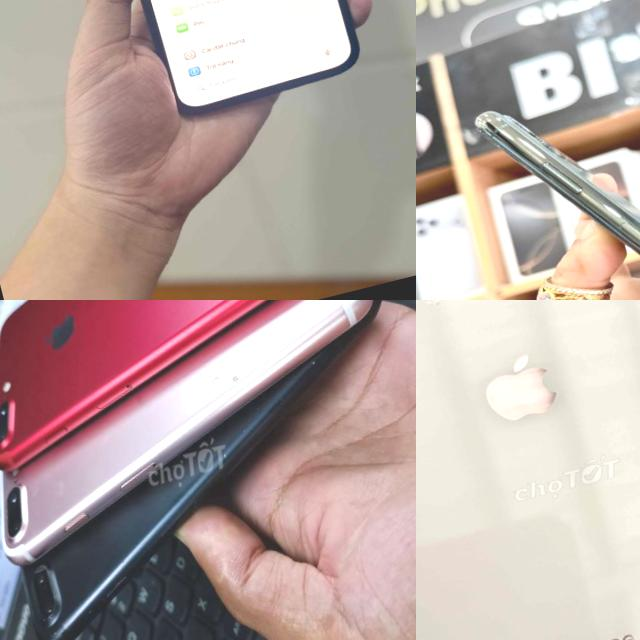gen_11: (474, 110, 640, 254)
gen_7_8: (1, 300, 370, 567), (416, 300, 640, 640)
gen_x_xs: (78, 0, 394, 140)
scratch: (201, 353, 255, 401)
